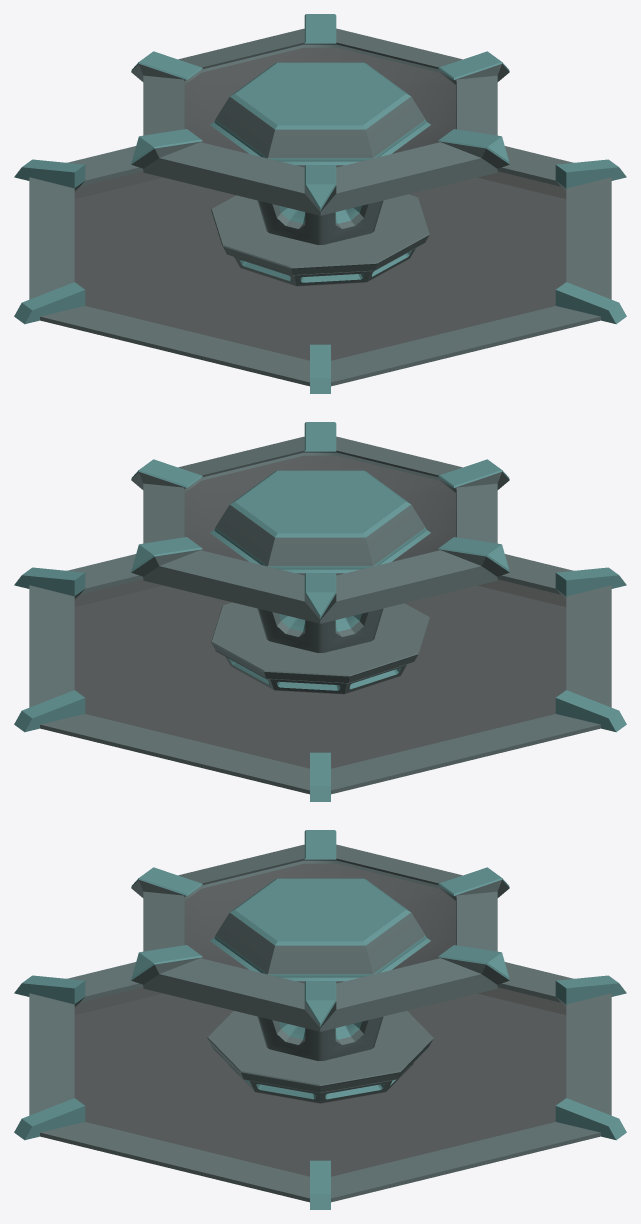
File: Low-Poly Sci-Fi Table.fbx
3 views of the same model, one above another, from view 1: azimuth 30°, elevation 25°; view 2: azimuth 150°, elevation 25°; view 3: azimuth 270°, elevation 25° (orthographic).
Visible parts, largest first — view 1: pCylinder1, pCylinder4, pCylinder2, pCylinder3; view 2: pCylinder1, pCylinder4, pCylinder2, pCylinder3; view 3: pCylinder1, pCylinder4, pCylinder2, pCylinder3.
Boxes of the visible parts, x1,y1,x2,y2 form: pCylinder1: (14,146,626,393); pCylinder4: (131,14,509,215); pCylinder2: (211,194,429,285); pCylinder3: (257,200,383,244); pCylinder1: (14,554,626,801); pCylinder4: (131,422,509,623); pCylinder2: (211,602,429,693); pCylinder3: (257,608,383,652); pCylinder1: (14,962,626,1209); pCylinder4: (131,830,509,1031); pCylinder2: (207,1011,433,1103); pCylinder3: (257,1016,383,1060).
Bounding box in the file's own units: 19.59 × 5.14 × 17.27.
